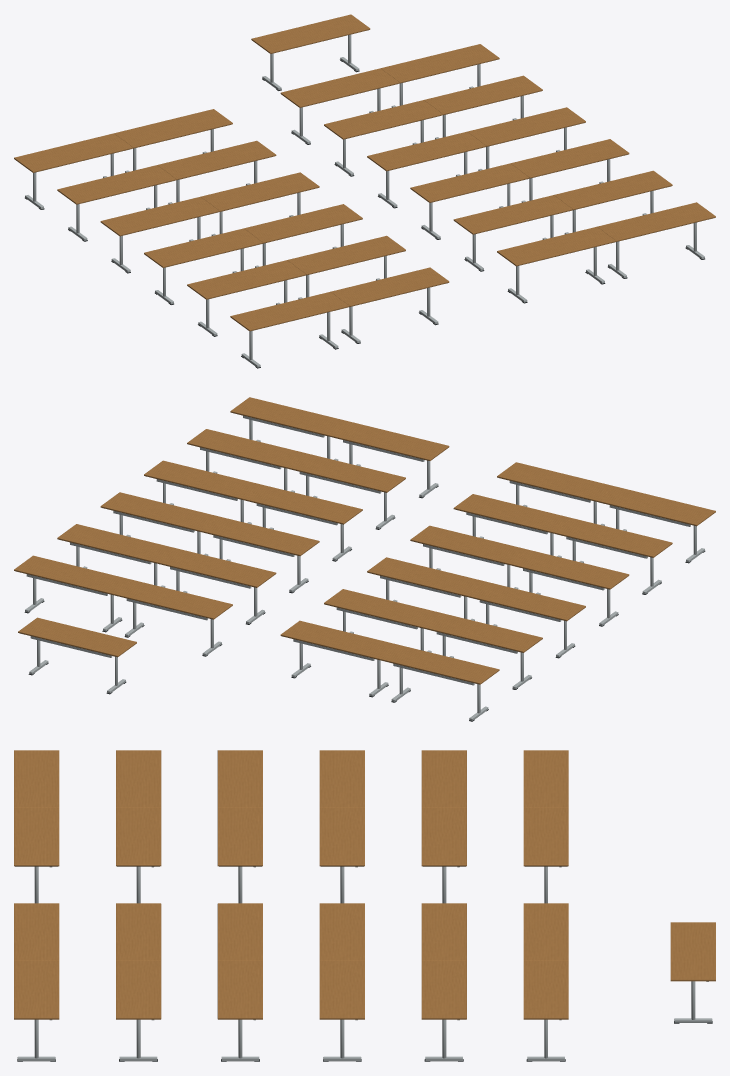
File: SM_F03_Desks.fbx
The picture shows the model from 3 angles, top to bottom: view 1: azimuth 30°, elevation 25°; view 2: azimuth 150°, elevation 25°; view 3: azimuth 270°, elevation 25°; orthographic projection. The views are drawn at different scales.
Parts seen in each view (by area): view 1: SM_F03_Desks; view 2: SM_F03_Desks; view 3: SM_F03_Desks.
Boxes of the visible parts, x1,y1,x2,y2 form: SM_F03_Desks: [14, 14, 715, 368]; SM_F03_Desks: [14, 397, 715, 721]; SM_F03_Desks: [14, 750, 715, 1061].
Bounding box in the file's own units: 840 × 930 × 72.
4 materials, 1 textured.
